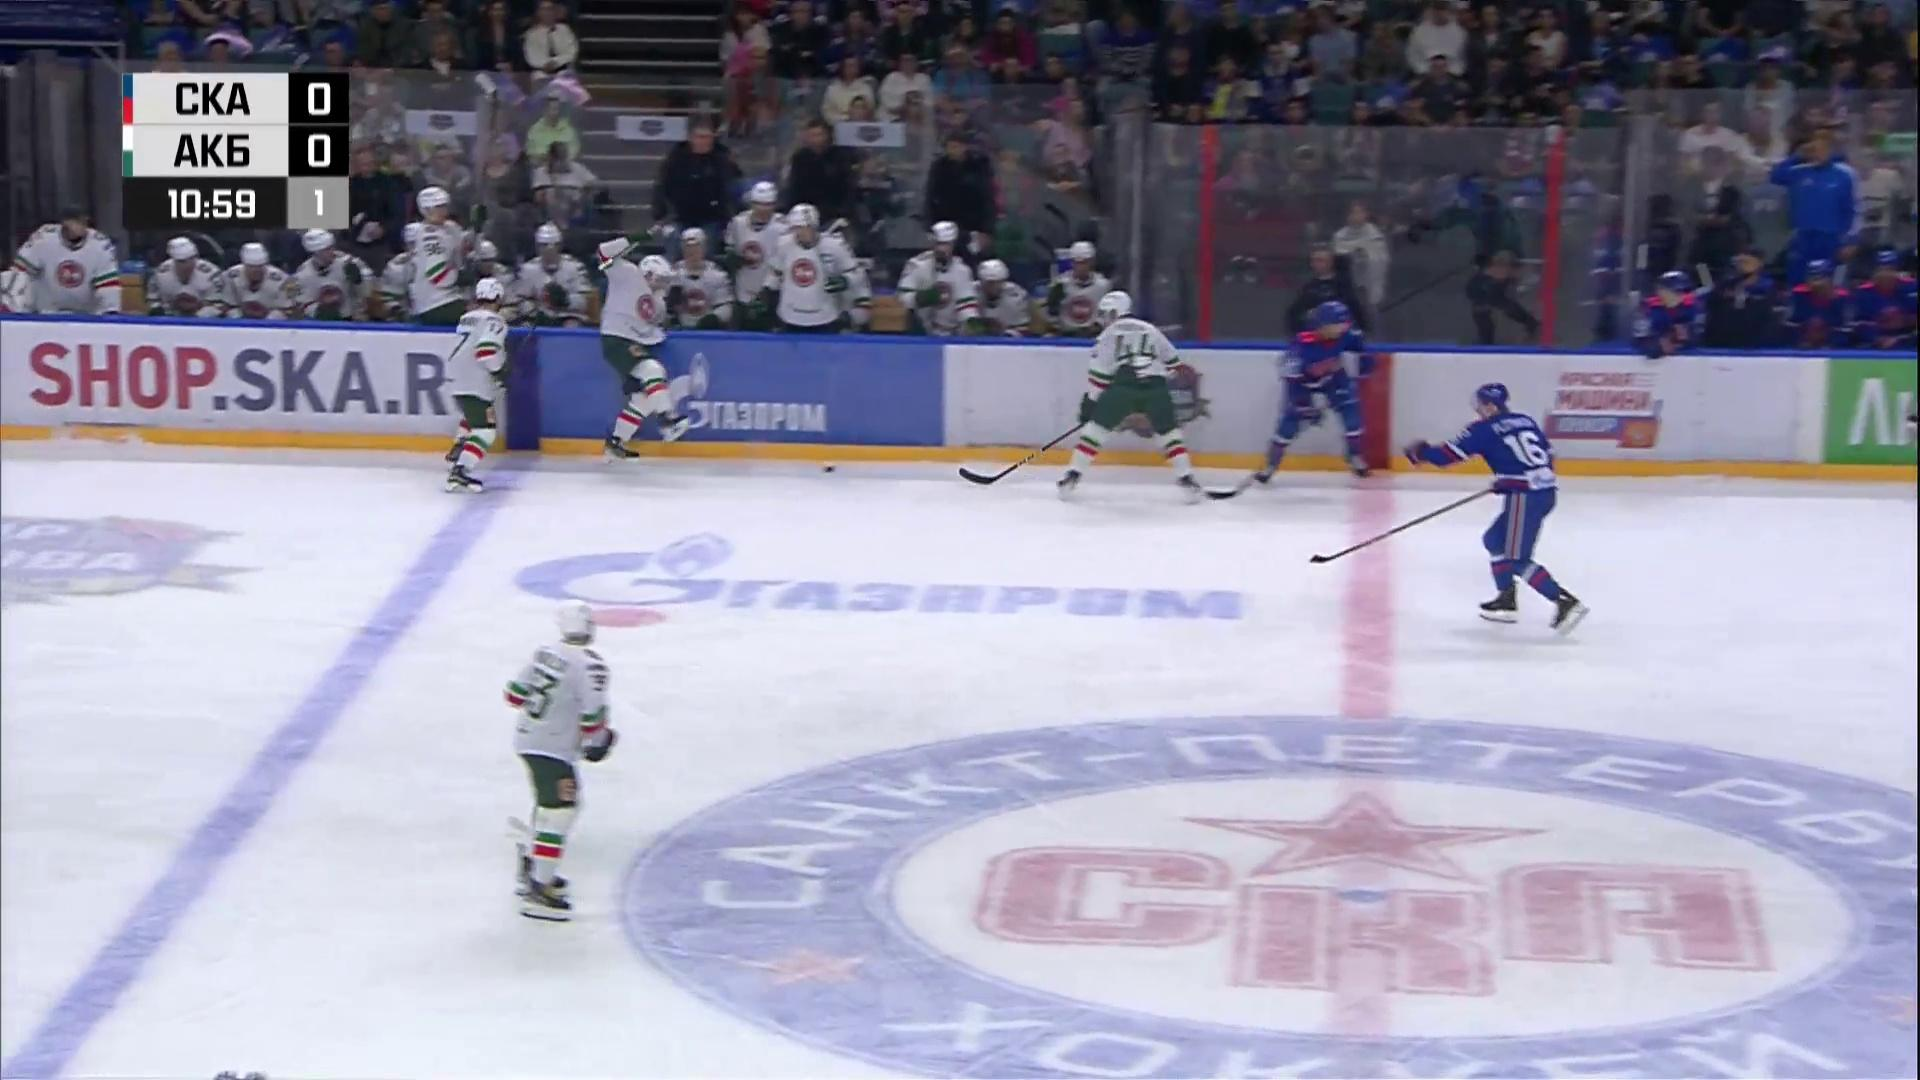ball: (823, 465, 836, 473)
